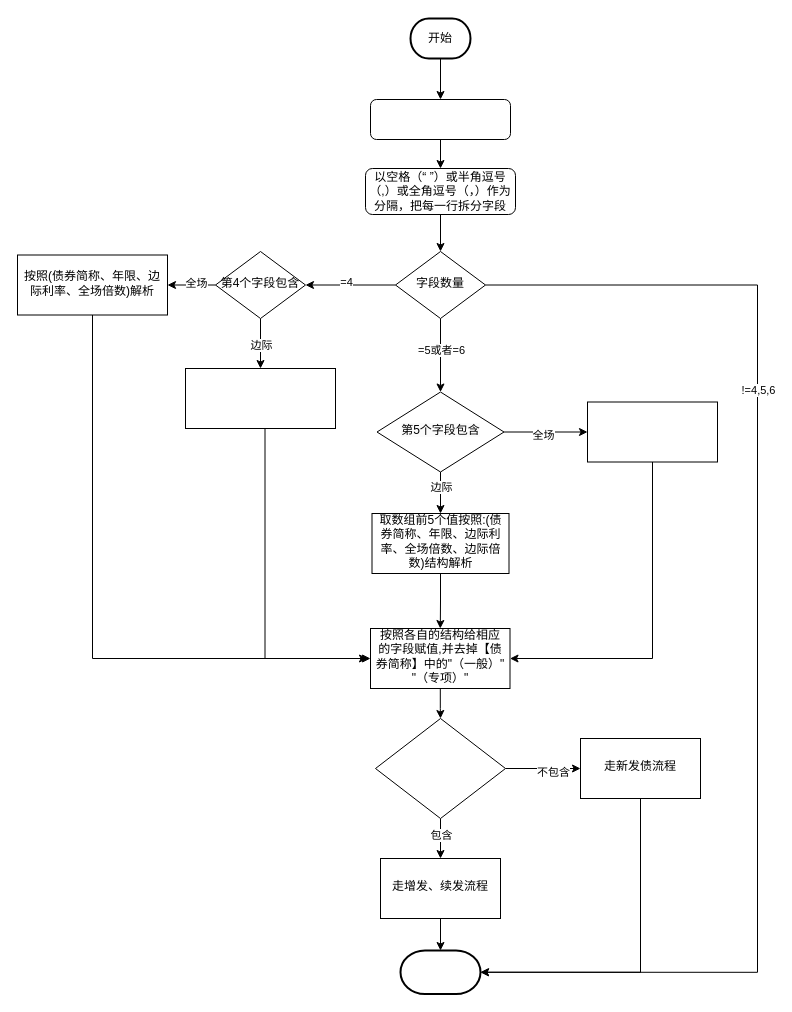
Some shapes in this 792 by 1012 pixel diagram are drawn without their labels. Here are the shapes that lost their labels. From the top down, the box of each, then its label:
(370, 98, 510, 140): 根据换行符把文本转成String[]数组
(184, 368, 336, 428): 按照( 债券简称、年限、边际利率、边际 倍数)解析
(586, 401, 718, 462): 取数组前5个值按照:(债券简称、年限、边际利率、边际倍数、全场倍数)结构解析
(374, 718, 506, 818): 债券简称包含增发或者续发
(399, 949, 481, 994): 结束
